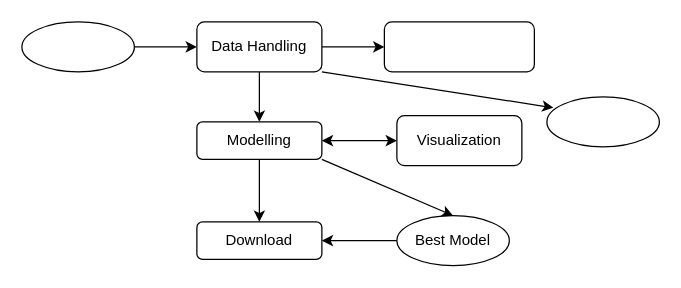
This 681x288 diagram has some shape labels left out. The shapes that lost their labels are listed below. From the top down, each one's centre as x and y in pixels, then its label:
[77,46]: Start
[458,46]: Data Profiling
[602,121]: Processed Data
